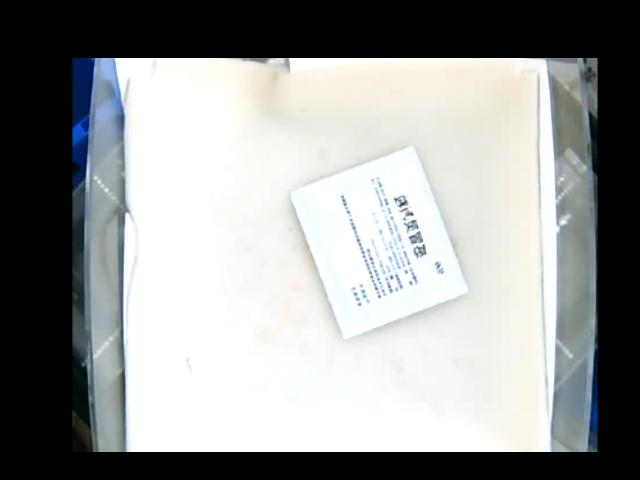Medicine: (288, 145, 467, 340)
